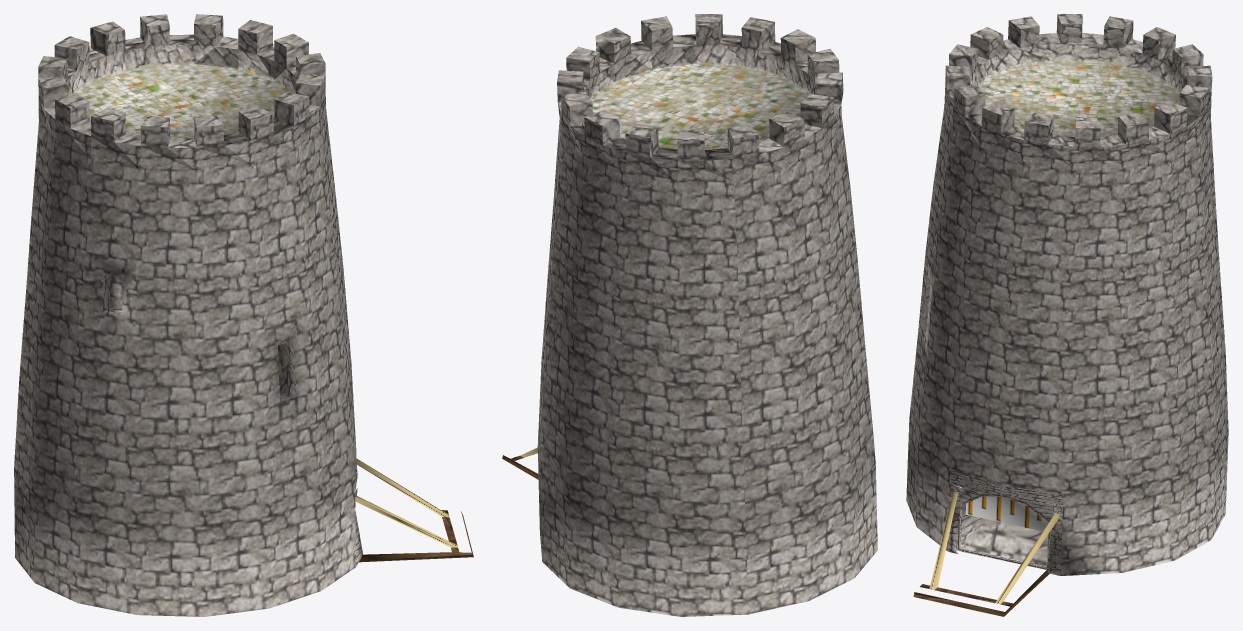
The model's file is tower2.gltf.
The picture shows the model from 3 angles, left to right: view 1: azimuth 30°, elevation 25°; view 2: azimuth 150°, elevation 25°; view 3: azimuth 270°, elevation 25°; orthographic projection. The views are drawn at different scales.
Parts seen in each view (by area): view 1: something; view 2: something; view 3: something.
Part boxes in pixels (<box>): something: <box>14,14,473,616</box>; something: <box>502,14,877,616</box>; something: <box>906,14,1228,616</box>.
Bounding box in the file's own units: 2.82 × 3.31 × 2.17.
Materials: 1 (1 with a texture image).
